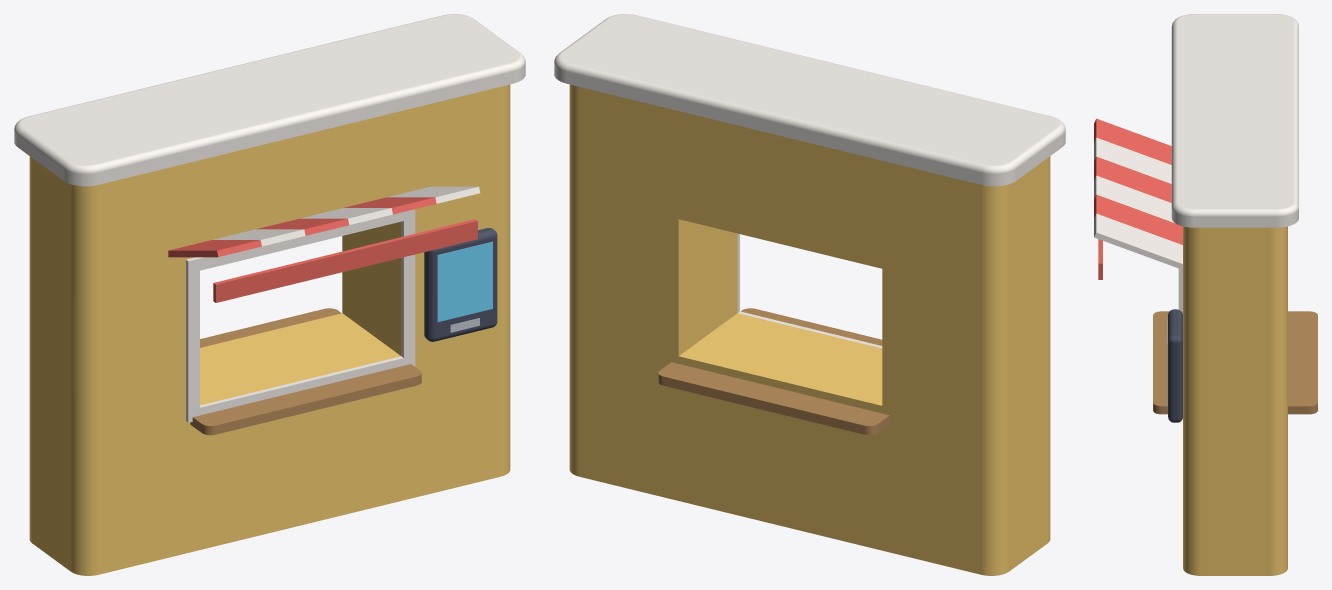
Rendered from DriveThruBooth.glb.
3 renders of one model, left to right at view 1: azimuth 30°, elevation 25°; view 2: azimuth 150°, elevation 25°; view 3: azimuth 270°, elevation 25°, orthographic. The views are drawn at different scales.
Parts seen in each view (by area): view 1: boothBody, awningWhite (×5), awningRed (×4), tableWood, screenGlow, screenDark; view 2: boothBody, awningWhite (×2), tableWood; view 3: boothBody, awningWhite (×4), awningRed (×3), tableWood, screenDark.
Part boxes in pixels (x1,y1,x2,y2): boothBody: (29,84,510,575); awningWhite (×5): (14,14,525,422); awningRed (×4): (168,197,477,302); tableWood: (190,308,421,435); screenGlow: (437,241,492,322); screenDark: (424,228,497,341); boothBody: (569,84,1050,575); awningWhite (×2): (554,14,1065,348); tableWood: (658,308,889,435); boothBody: (1183,226,1287,575); awningWhite (×4): (1094,14,1298,269); awningRed (×3): (1094,118,1182,244); tableWood: (1153,311,1317,414); screenDark: (1168,309,1182,422).
Size of the model in its own units: 3.15 by 2.72 by 1.49.
